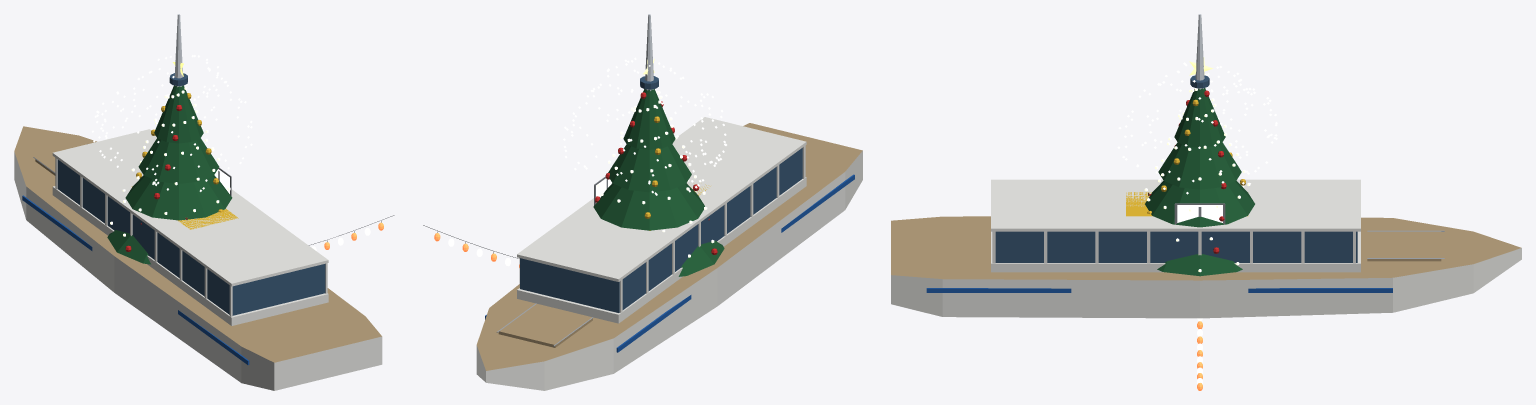
The model's file is city5.glb.
3 renders of one model, left to right at view 1: azimuth 30°, elevation 25°; view 2: azimuth 150°, elevation 25°; view 3: azimuth 270°, elevation 25°, orthographic. The views are drawn at different scales.
Parts seen in each view (by area): view 1: C5_Cruise, C5_XmasTree, C5_TreeLights, C5_MiniSkytree, C5_FoodTruck; view 2: C5_Cruise, C5_XmasTree, C5_TreeLights, C5_MiniSkytree, C5_Lanterns; view 3: C5_Cruise, C5_XmasTree, C5_DoorOpen, C5_TreeLights, C5_MiniSkytree, C5_FoodTruck.
Boxes of the visible parts, bbox=[...] form: C5_Cruise: bbox=[14, 126, 382, 390]; C5_XmasTree: bbox=[107, 62, 232, 264]; C5_TreeLights: bbox=[92, 55, 252, 191]; C5_MiniSkytree: bbox=[169, 14, 187, 87]; C5_FoodTruck: bbox=[131, 186, 238, 229]; C5_Cruise: bbox=[476, 117, 862, 390]; C5_XmasTree: bbox=[593, 58, 724, 276]; C5_TreeLights: bbox=[563, 57, 726, 195]; C5_MiniSkytree: bbox=[640, 14, 658, 90]; C5_Lanterns: bbox=[423, 225, 519, 267]; C5_Cruise: bbox=[891, 179, 1521, 318]; C5_XmasTree: bbox=[1144, 57, 1254, 276]; C5_DoorOpen: bbox=[1174, 203, 1225, 224]; C5_TreeLights: bbox=[1117, 62, 1277, 194]; C5_MiniSkytree: bbox=[1190, 14, 1209, 89]; C5_FoodTruck: bbox=[1126, 192, 1248, 216].
Bounding box in the file's own units: 10.51 × 9.69 × 19.6.
